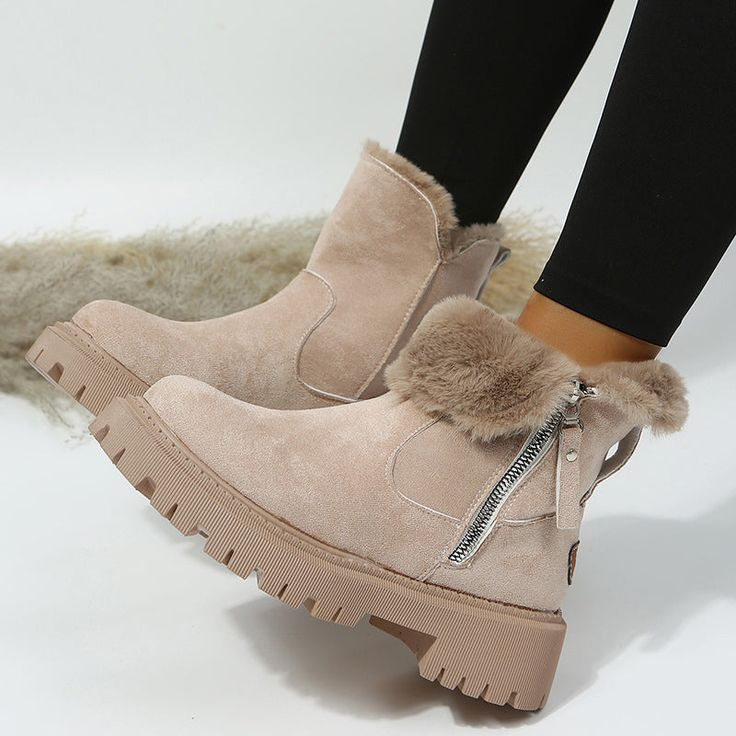gamuza: (77, 149, 642, 616)
